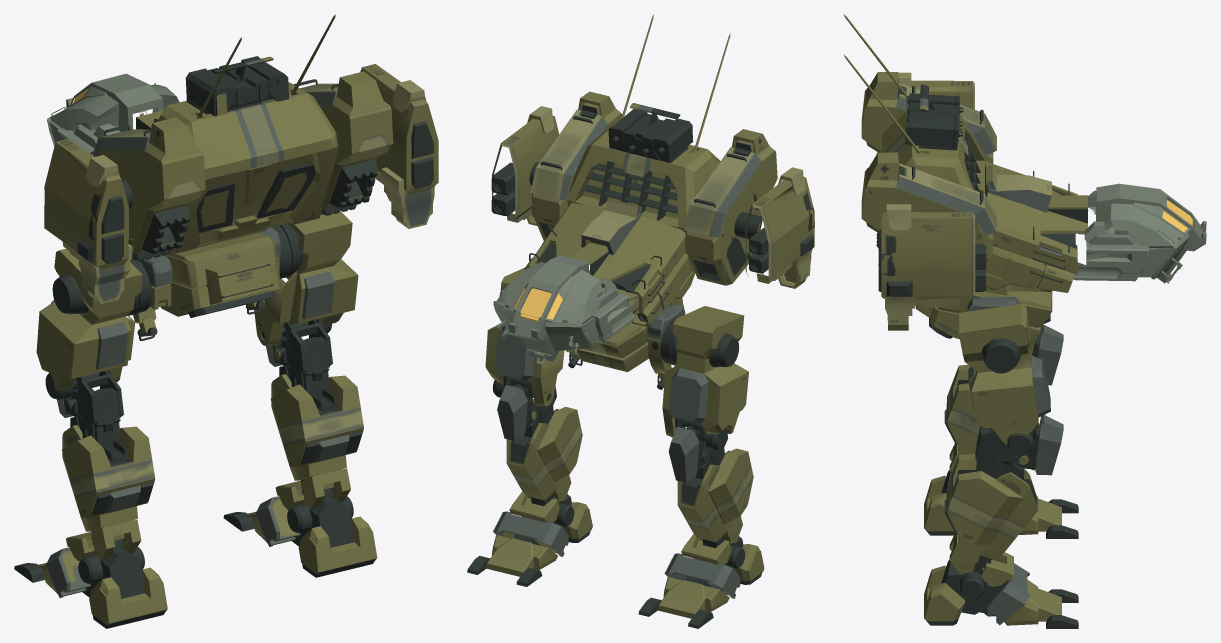
File: Jenner.glb
3 renders of one model, left to right at view 1: azimuth 30°, elevation 25°; view 2: azimuth 150°, elevation 25°; view 3: azimuth 270°, elevation 25°, orthographic. The views are drawn at different scales.
Visible parts, largest first — view 1: CenterTorso_CoreAndPelvis, LeftLeg_Shin, RightLeg_Shin, LeftArm_ForearmAndFist, LeftTorso_TorsoShell, LeftLeg_Thigh, LeftLeg_Foot, RightLeg_Foot, RightLeg_Thigh, RightTorso_TorsoShell, RightArm_ForearmAndFist, Head_CockpitFrame (+3 smaller); view 2: CenterTorso_CoreAndPelvis, Head_CockpitFrame, LeftLeg_Thigh, LeftTorso_TorsoShell, LeftLeg_Shin, RightLeg_Shin, RightLeg_Foot, LeftLeg_Foot, CenterTorso_Srm4Housing, LeftArm_ForearmAndFist, RightTorso_TorsoShell, RightLeg_Thigh (+5 smaller); view 3: CenterTorso_CoreAndPelvis, RightLeg_Shin, RightArm_ForearmAndFist, Head_CockpitFrame, RightLeg_Thigh, RightLeg_Foot, RightTorso_TorsoShell, LeftTorso_TorsoShell, CenterTorso_Srm4Housing, LeftLeg_Shin, LeftLeg_Foot, LeftArm_ForearmAndFist.
Part boxes in pixels (x1,y1,x2,y2): CenterTorso_CoreAndPelvis: (90, 14, 338, 340); LeftLeg_Shin: (45, 370, 155, 560); RightLeg_Shin: (261, 318, 363, 509); LeftArm_ForearmAndFist: (44, 138, 132, 303); LeftTorso_TorsoShell: (92, 117, 205, 261); LeftLeg_Thigh: (36, 249, 142, 390); LeftLeg_Foot: (14, 530, 167, 628); RightLeg_Foot: (223, 479, 377, 577); RightLeg_Thigh: (254, 210, 358, 345); RightTorso_TorsoShell: (293, 71, 393, 215); RightArm_ForearmAndFist: (360, 64, 438, 228); Head_CockpitFrame: (47, 73, 179, 154); CenterTorso_CoreAndPelvis: (524, 14, 730, 389); Head_CockpitFrame: (493, 255, 638, 364); LeftLeg_Thigh: (662, 306, 748, 438); LeftTorso_TorsoShell: (684, 129, 777, 285); LeftLeg_Shin: (668, 426, 753, 543); RightLeg_Shin: (492, 380, 582, 502); RightLeg_Foot: (467, 491, 592, 586); LeftLeg_Foot: (638, 534, 764, 628); CenterTorso_Srm4Housing: (582, 103, 693, 220); LeftArm_ForearmAndFist: (744, 167, 814, 288); RightTorso_TorsoShell: (530, 91, 622, 240); RightLeg_Thigh: (485, 267, 564, 406); CenterTorso_CoreAndPelvis: (843, 14, 1087, 345); RightLeg_Shin: (944, 415, 1063, 573); RightArm_ForearmAndFist: (878, 204, 975, 330); Head_CockpitFrame: (1070, 183, 1206, 283); RightLeg_Thigh: (959, 304, 1050, 445); RightLeg_Foot: (924, 552, 1078, 628); RightTorso_TorsoShell: (861, 152, 996, 262); LeftTorso_TorsoShell: (861, 72, 996, 163); CenterTorso_Srm4Housing: (905, 84, 980, 191); LeftLeg_Shin: (944, 325, 1063, 472); LeftLeg_Foot: (924, 470, 1078, 538); LeftArm_ForearmAndFist: (898, 72, 974, 109).
Size of the model in its own units: 1.35 by 2.23 by 1.38.
Materials: 4 (2 with a texture image).
